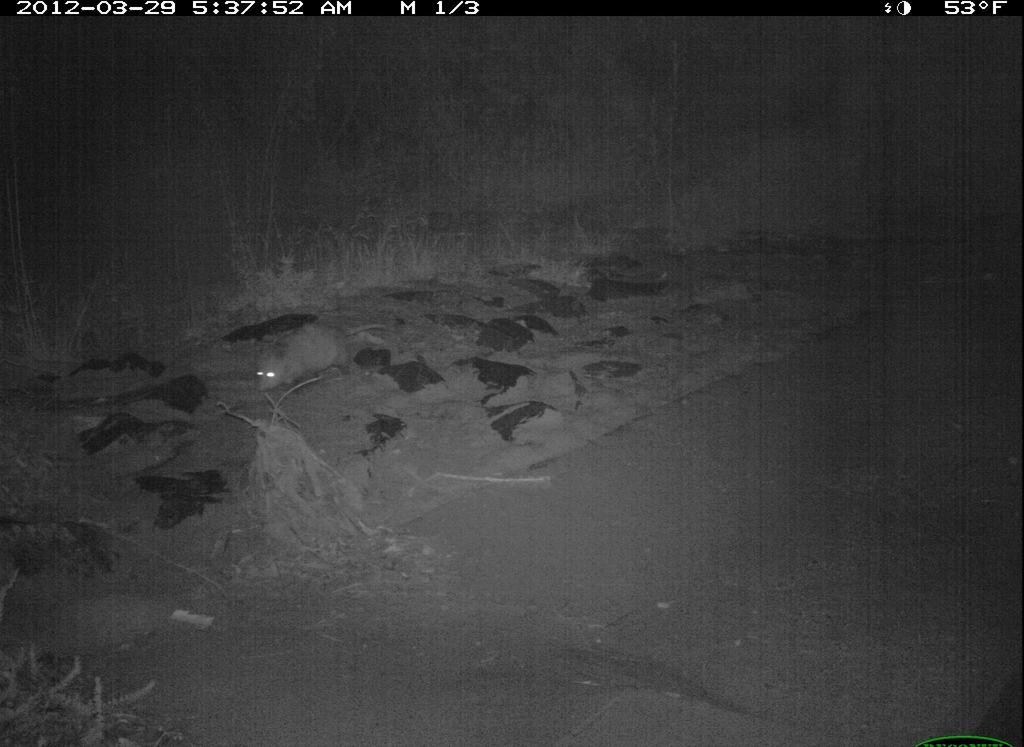opossum: (248, 313, 372, 396)
